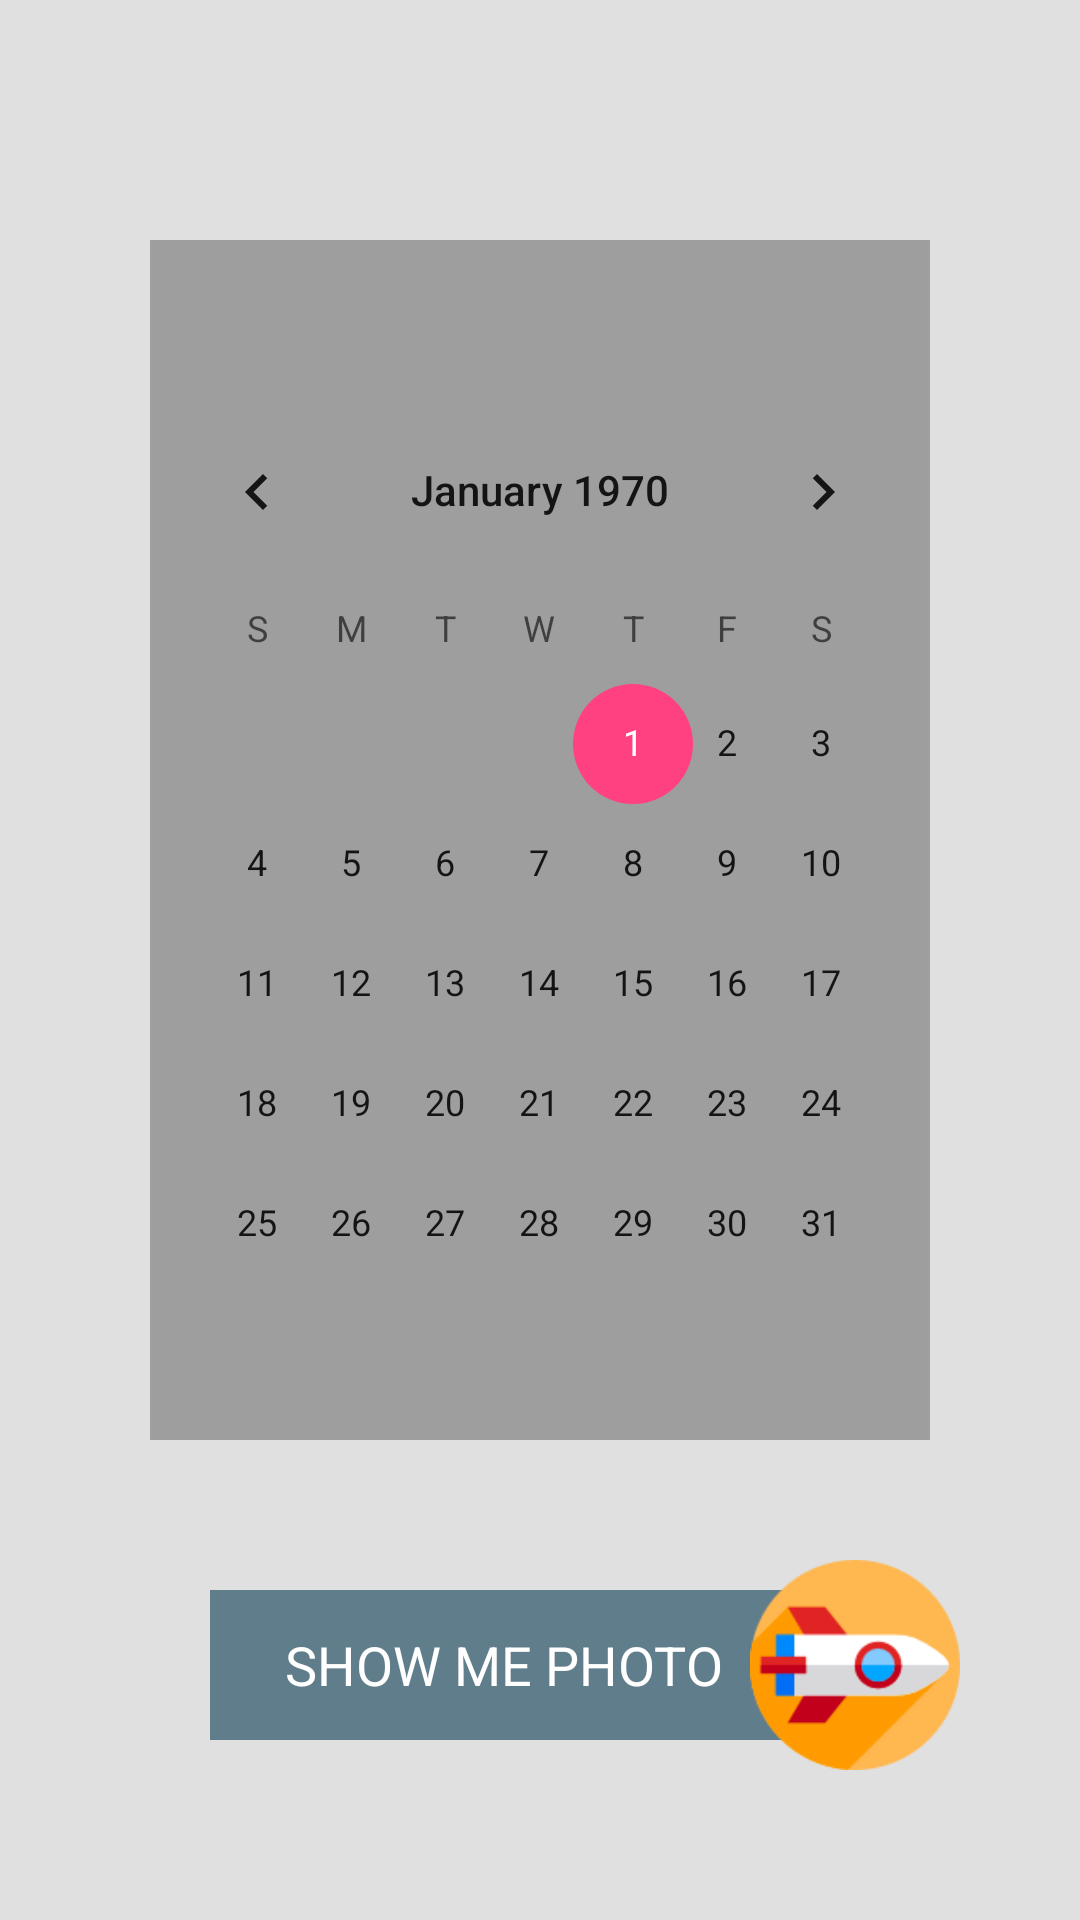

Where icons sit on this 1080 x 1920 app screen, as (x1, y1, x2, y2):
rockethorizontal: (750, 1560, 960, 1770)
